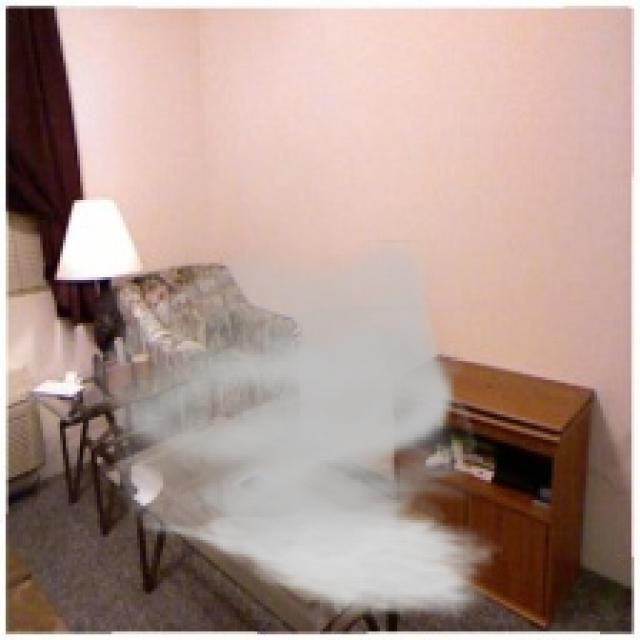Smoke: (86, 240, 503, 623)
